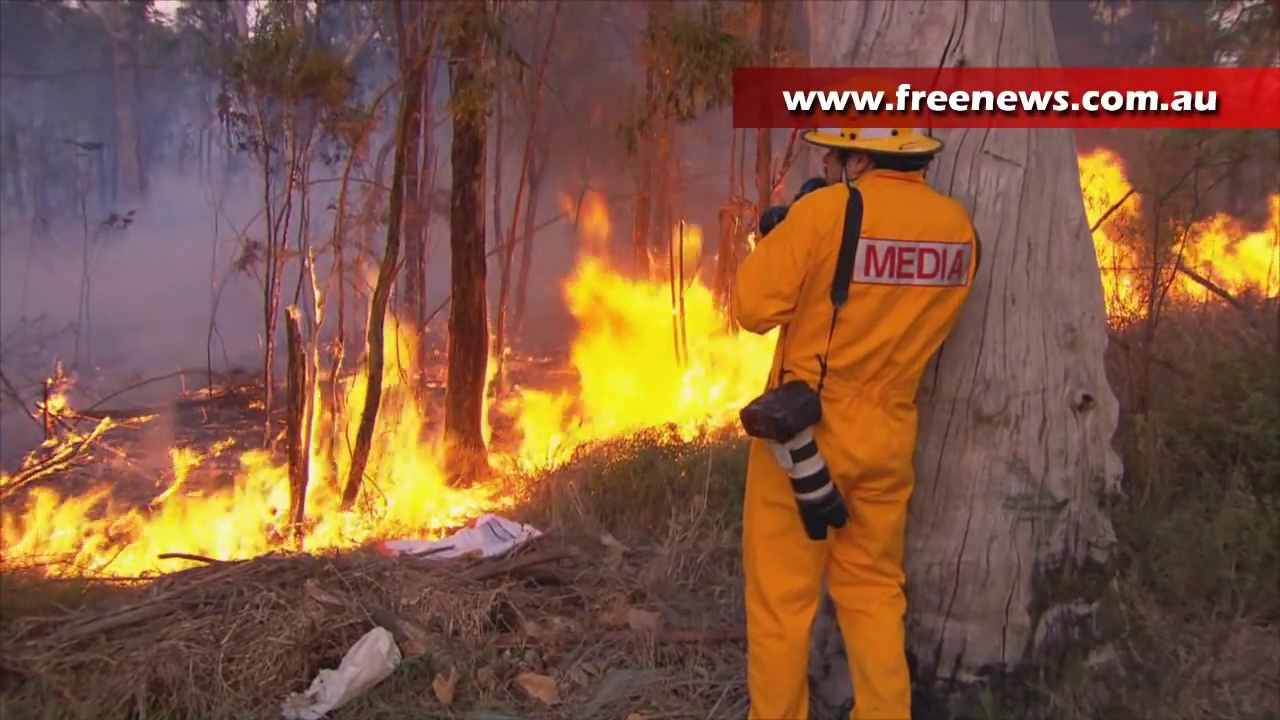fire: (1, 326, 481, 584), (509, 264, 781, 462), (1083, 147, 1146, 317), (1167, 212, 1279, 301)
